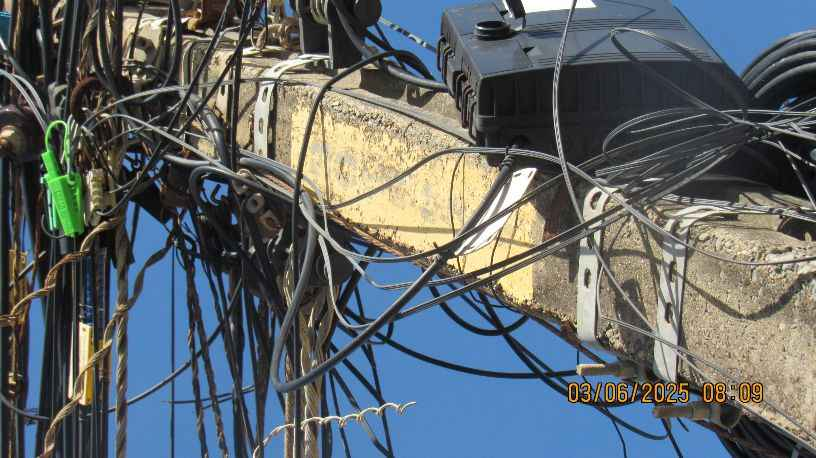drop: (191, 160, 349, 299), (40, 119, 124, 239)
poste: (112, 1, 811, 400)
